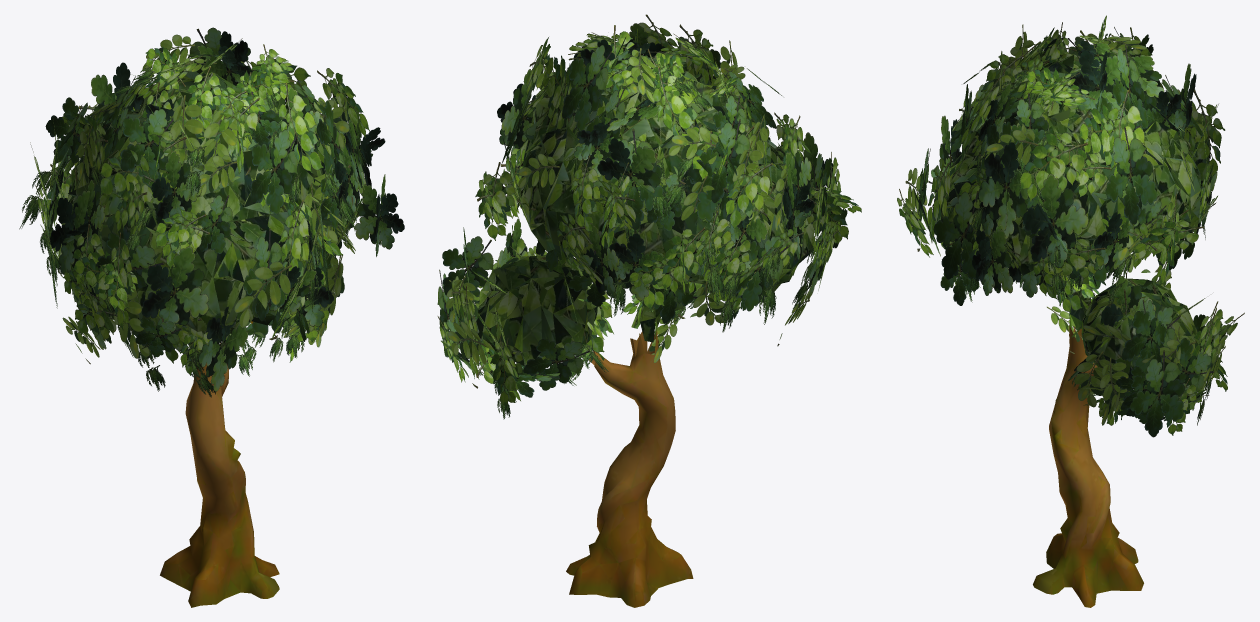
The model's file is oak_4.glb.
The picture shows the model from 3 angles, left to right: view 1: azimuth 30°, elevation 25°; view 2: azimuth 150°, elevation 25°; view 3: azimuth 270°, elevation 25°; orthographic projection. The views are drawn at different scales.
Parts seen in each view (by area): view 1: Fable_oak_4; view 2: Fable_oak_4; view 3: Fable_oak_4.
Part boxes in pixels (x1,y1,x2,y2): Fable_oak_4: (19,27,404,607); Fable_oak_4: (437,14,861,607); Fable_oak_4: (897,15,1244,607).
Bounding box in the file's own units: 5.87 × 9.44 × 5.5.
2 materials, 2 textured.
